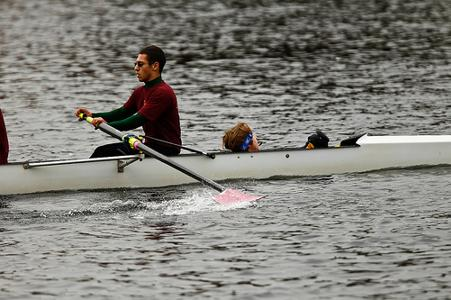person: (76, 47, 183, 161)
